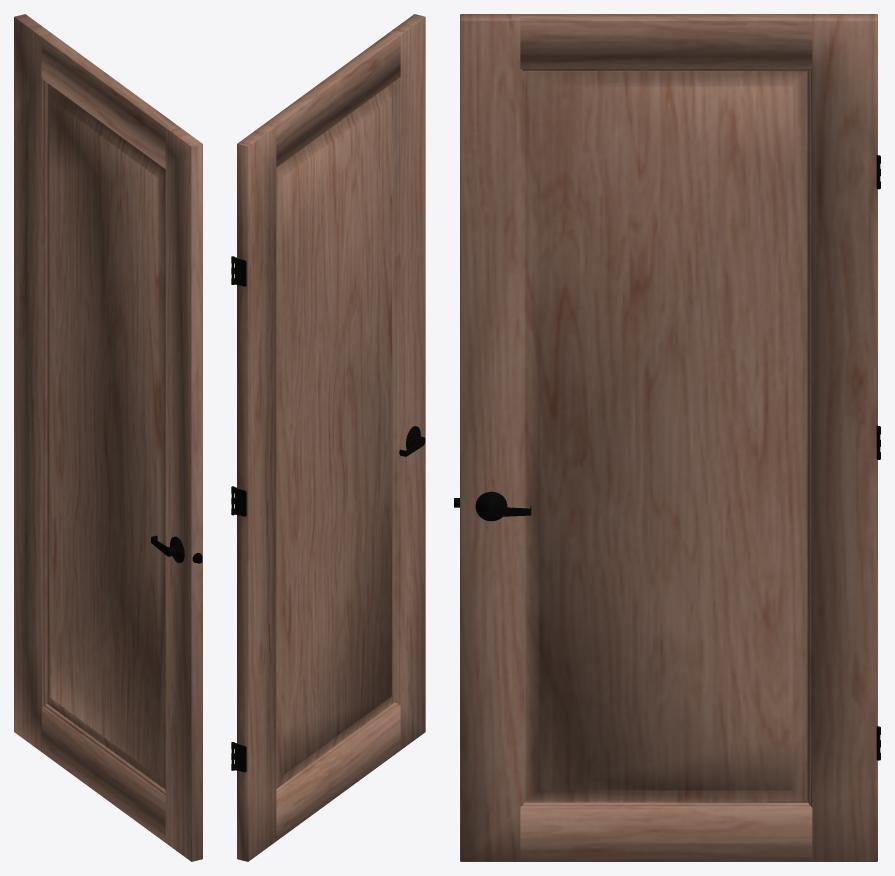
File: visual_Door_left_door_one_panel_wood_dark.dae
3 views of the same model, side by side, from view 1: azimuth 30°, elevation 25°; view 2: azimuth 150°, elevation 25°; view 3: azimuth 270°, elevation 25° (orthographic). The views are drawn at different scales.
Visible parts, largest first — view 1: visual_Door_left_door_one_panel_wood_dark; view 2: visual_Door_left_door_one_panel_wood_dark; view 3: visual_Door_left_door_one_panel_wood_dark.
Part boxes in pixels (x1,y1,x2,y2): visual_Door_left_door_one_panel_wood_dark: (14,14,202,861); visual_Door_left_door_one_panel_wood_dark: (231,14,425,861); visual_Door_left_door_one_panel_wood_dark: (454,14,880,861).
Bounding box in the file's own units: 0.0978 × 0.9313 × 2.03.
1 material, 1 textured.
